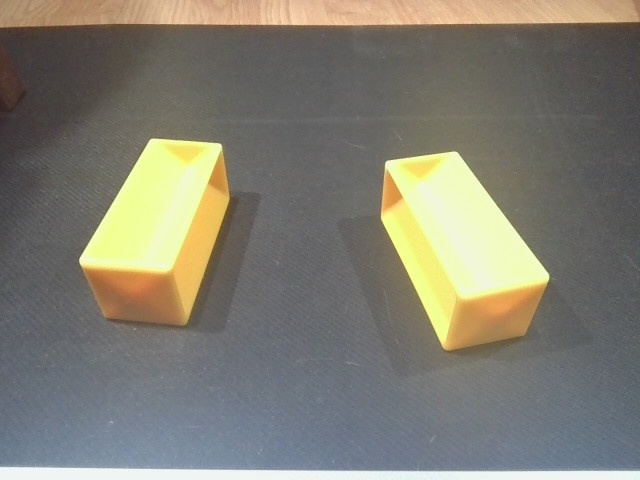YellowSample: (376, 149, 554, 352), (73, 135, 233, 332)
